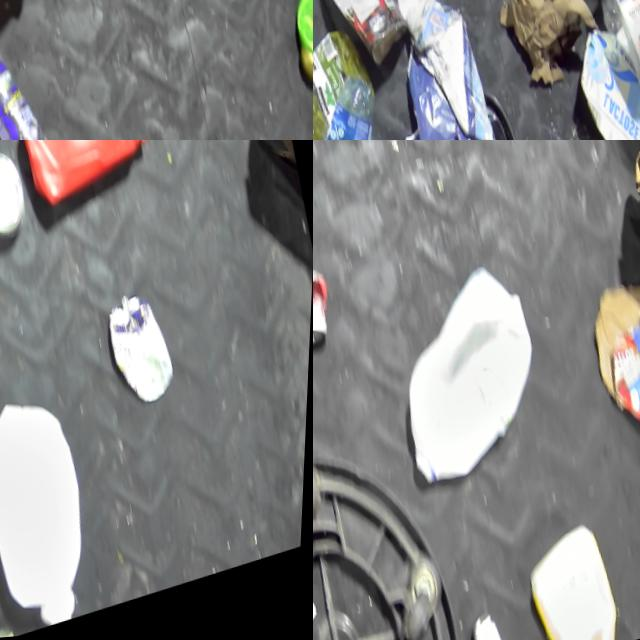can: (103, 293, 188, 420), (0, 39, 91, 140), (313, 263, 341, 353), (471, 613, 521, 640)
milk_jug: (378, 260, 562, 501), (0, 391, 116, 640), (520, 525, 634, 640)
non_white_jug: (13, 140, 160, 216)
plastic_bottle: (313, 64, 408, 140)
